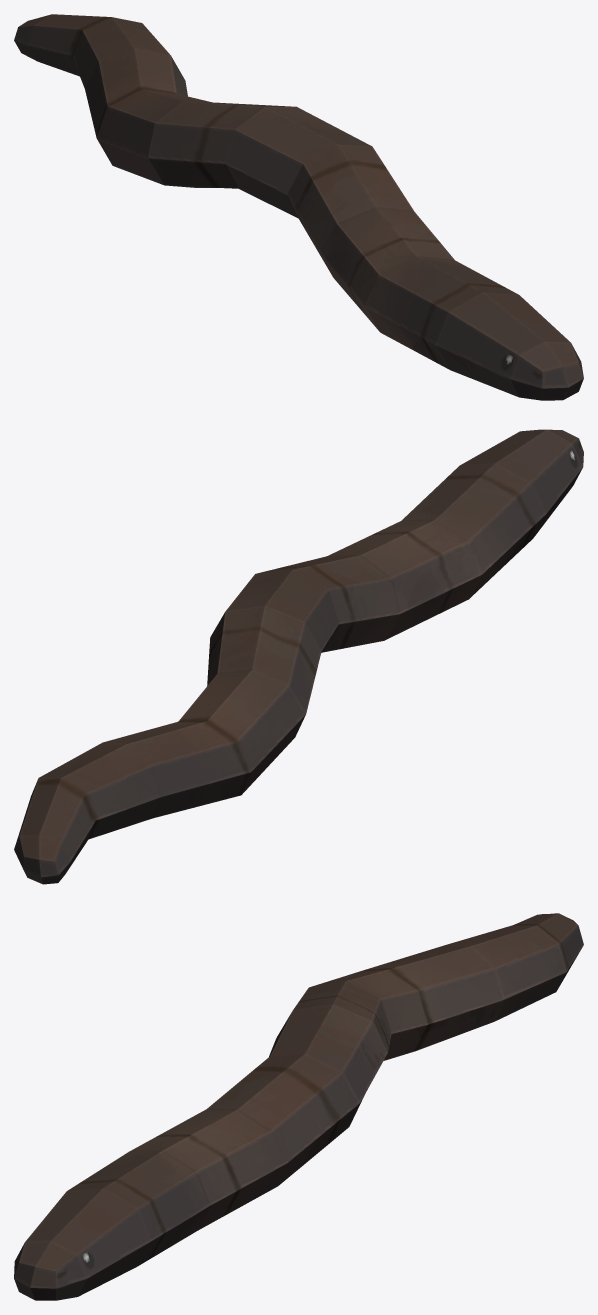
File: MalagtanRiverCaecilian.fbx
3 renders of one model, top to bottom at view 1: azimuth 30°, elevation 25°; view 2: azimuth 150°, elevation 25°; view 3: azimuth 330°, elevation 25°, orthographic.
Parts seen in each view (by area): view 1: MalagtanRiverCaecilian; view 2: MalagtanRiverCaecilian; view 3: MalagtanRiverCaecilian.
Boxes of the visible parts, x1=… form: MalagtanRiverCaecilian: x1=14, y1=14, x2=583, y2=400; MalagtanRiverCaecilian: x1=14, y1=429, x2=583, y2=884; MalagtanRiverCaecilian: x1=14, y1=913, x2=583, y2=1300.
Size of the model in its own units: 29.8 by 22.29 by 182.
